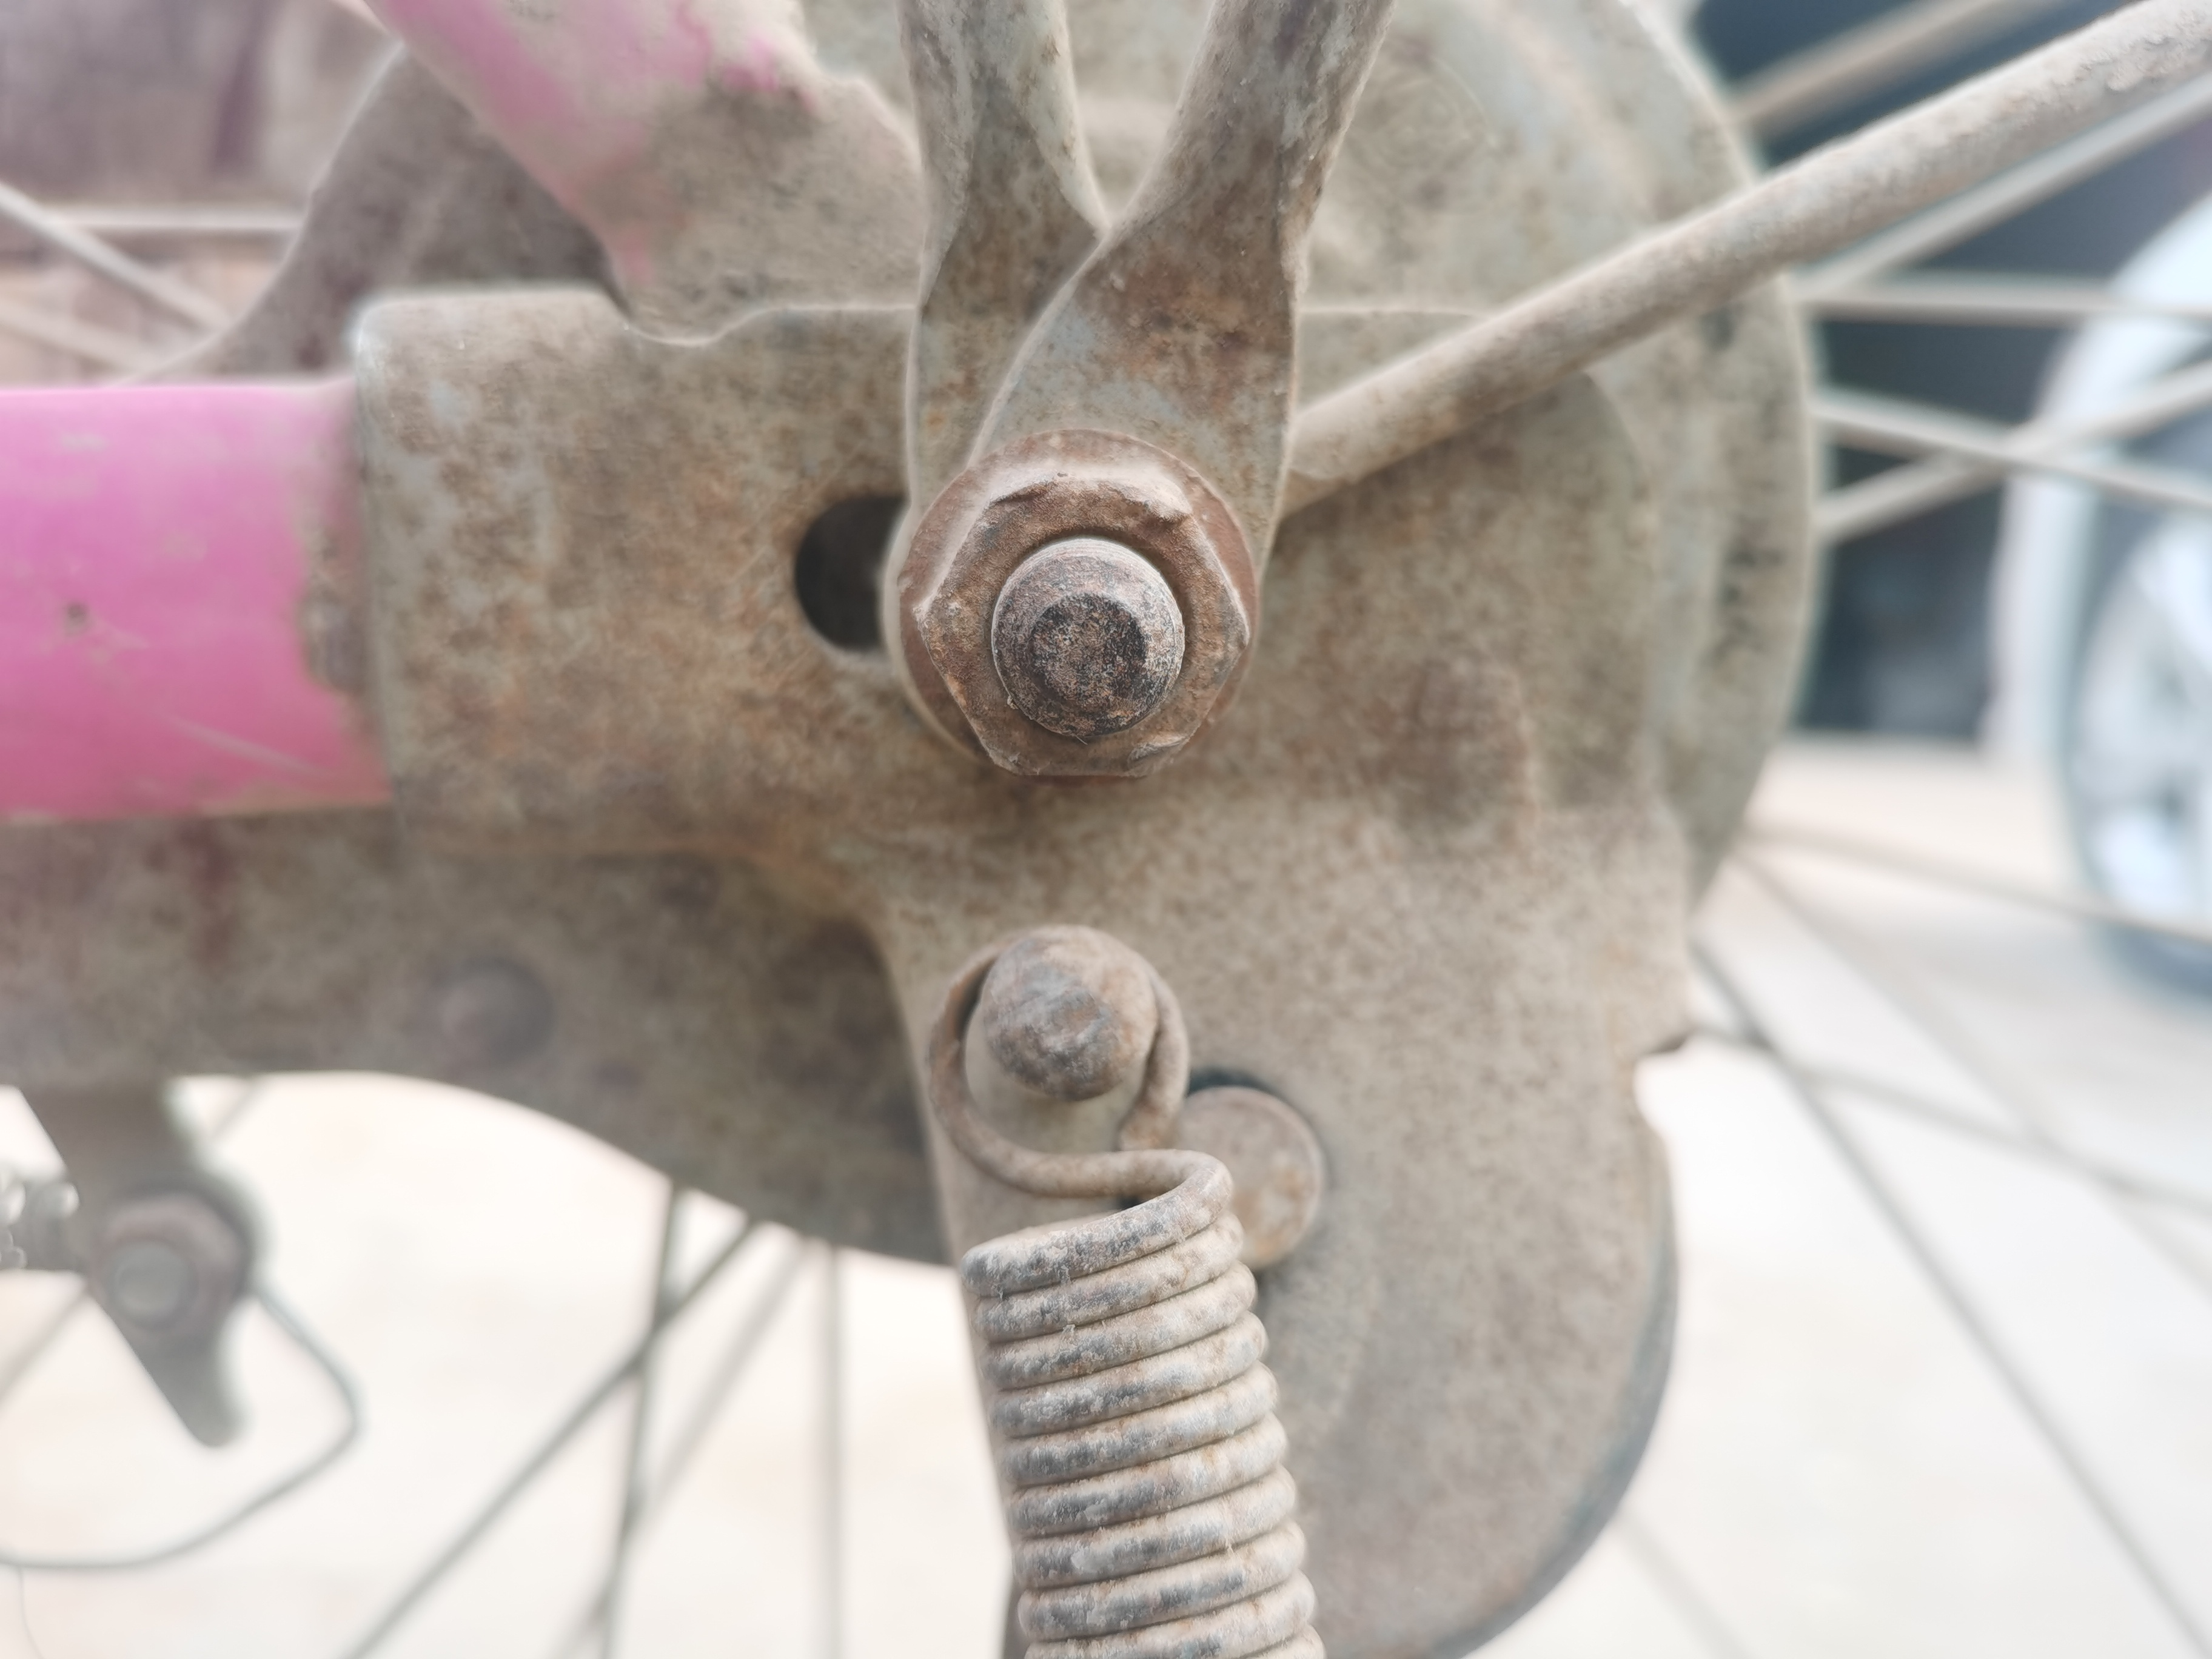bolt_b: (913, 455, 1261, 788)
vague: (80, 1194, 253, 1356)
